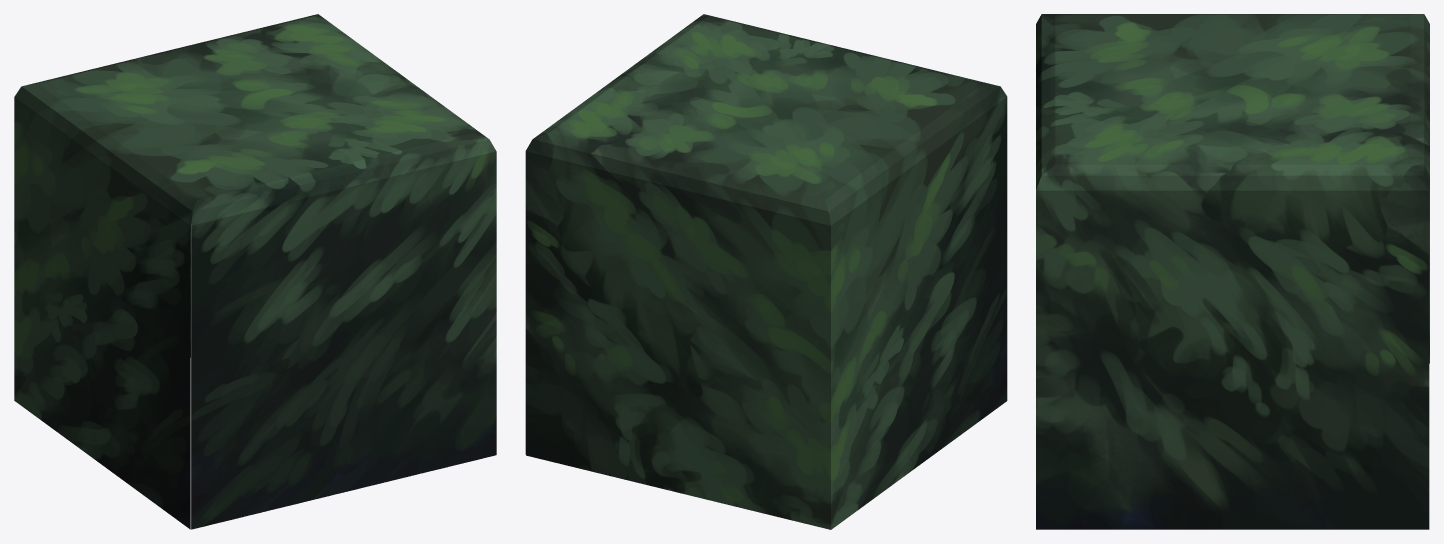
The model's file is Ground_Mesh_bushes_Texture.fbx.
3 renders of one model, left to right at view 1: azimuth 30°, elevation 25°; view 2: azimuth 150°, elevation 25°; view 3: azimuth 270°, elevation 25°, orthographic. The views are drawn at different scales.
Parts seen in each view (by area): view 1: Cube; view 2: Cube; view 3: Cube.
Boxes of the visible parts, x1,y1,x2,y2 form: Cube: (14, 14, 496, 529); Cube: (525, 14, 1007, 529); Cube: (1036, 14, 1429, 529).
Size of the model in its own units: 31.35 by 31.35 by 31.35.
1 material, 1 textured.
